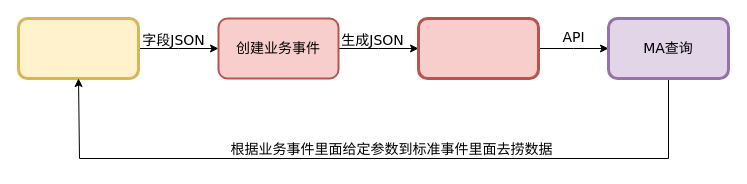
Some shapes in this 747 by 184 pixel diagram are drawn without their labels. Each missing label, with the box of its shape:
标准事件: (16, 16, 140, 80)
根据JSON的格式， 创建业务事件: (416, 16, 540, 80)
